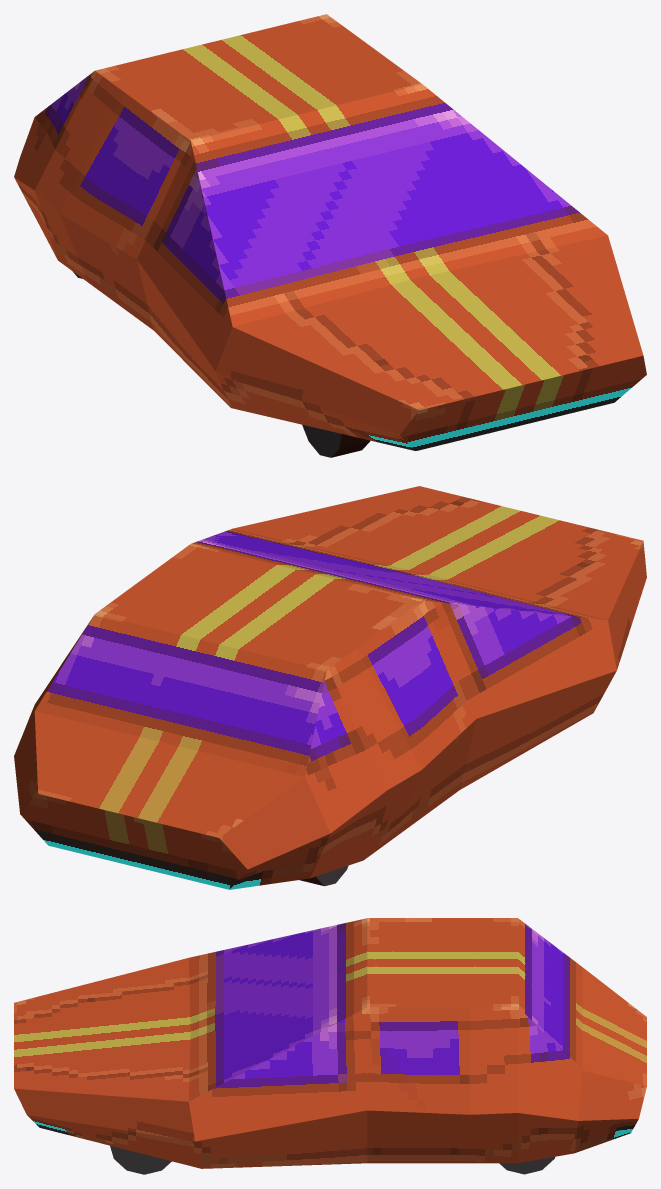
The model's file is FutureCar.8bc10bc1.glb.
The picture shows the model from 3 angles, top to bottom: view 1: azimuth 30°, elevation 25°; view 2: azimuth 150°, elevation 25°; view 3: azimuth 270°, elevation 25°; orthographic projection. The views are drawn at different scales.
Visible parts, largest first — view 1: Cube; view 2: Cube; view 3: Cube.
Boxes of the visible parts, <box> form: Cube: <box>14,14,646,457</box>; Cube: <box>14,486,646,889</box>; Cube: <box>14,918,646,1174</box>.
Size of the model in its own units: 7.67 by 3.78 by 13.33.
1 material, 1 textured.
